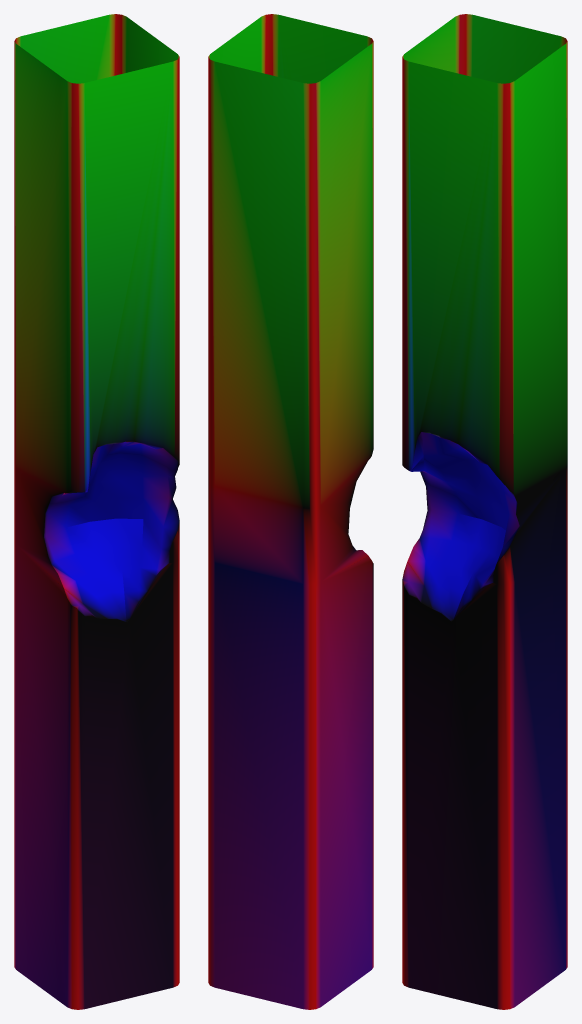
File: ColumnV4Damaged1.fbx
3 renders of one model, left to right at view 1: azimuth 30°, elevation 25°; view 2: azimuth 150°, elevation 25°; view 3: azimuth 330°, elevation 25°, orthographic.
Visible parts, largest first — view 1: ColumnV4Damaged1; view 2: ColumnV4Damaged1; view 3: ColumnV4Damaged1.
Boxes of the visible parts, x1=… form: ColumnV4Damaged1: x1=14, y1=14, x2=179, y2=1009; ColumnV4Damaged1: x1=208, y1=14, x2=373, y2=1009; ColumnV4Damaged1: x1=402, y1=14, x2=567, y2=1009.
Bounding box in the file's own units: 50 × 400 × 50.
